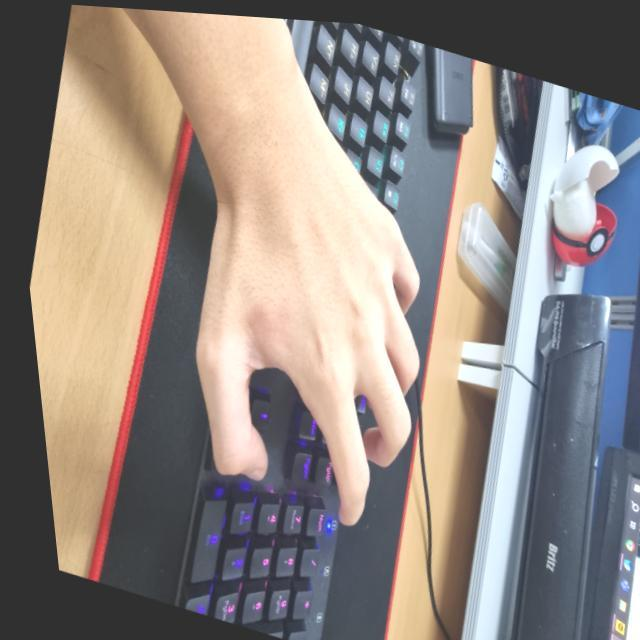keyboard-with-hands: (176, 18, 425, 640)
